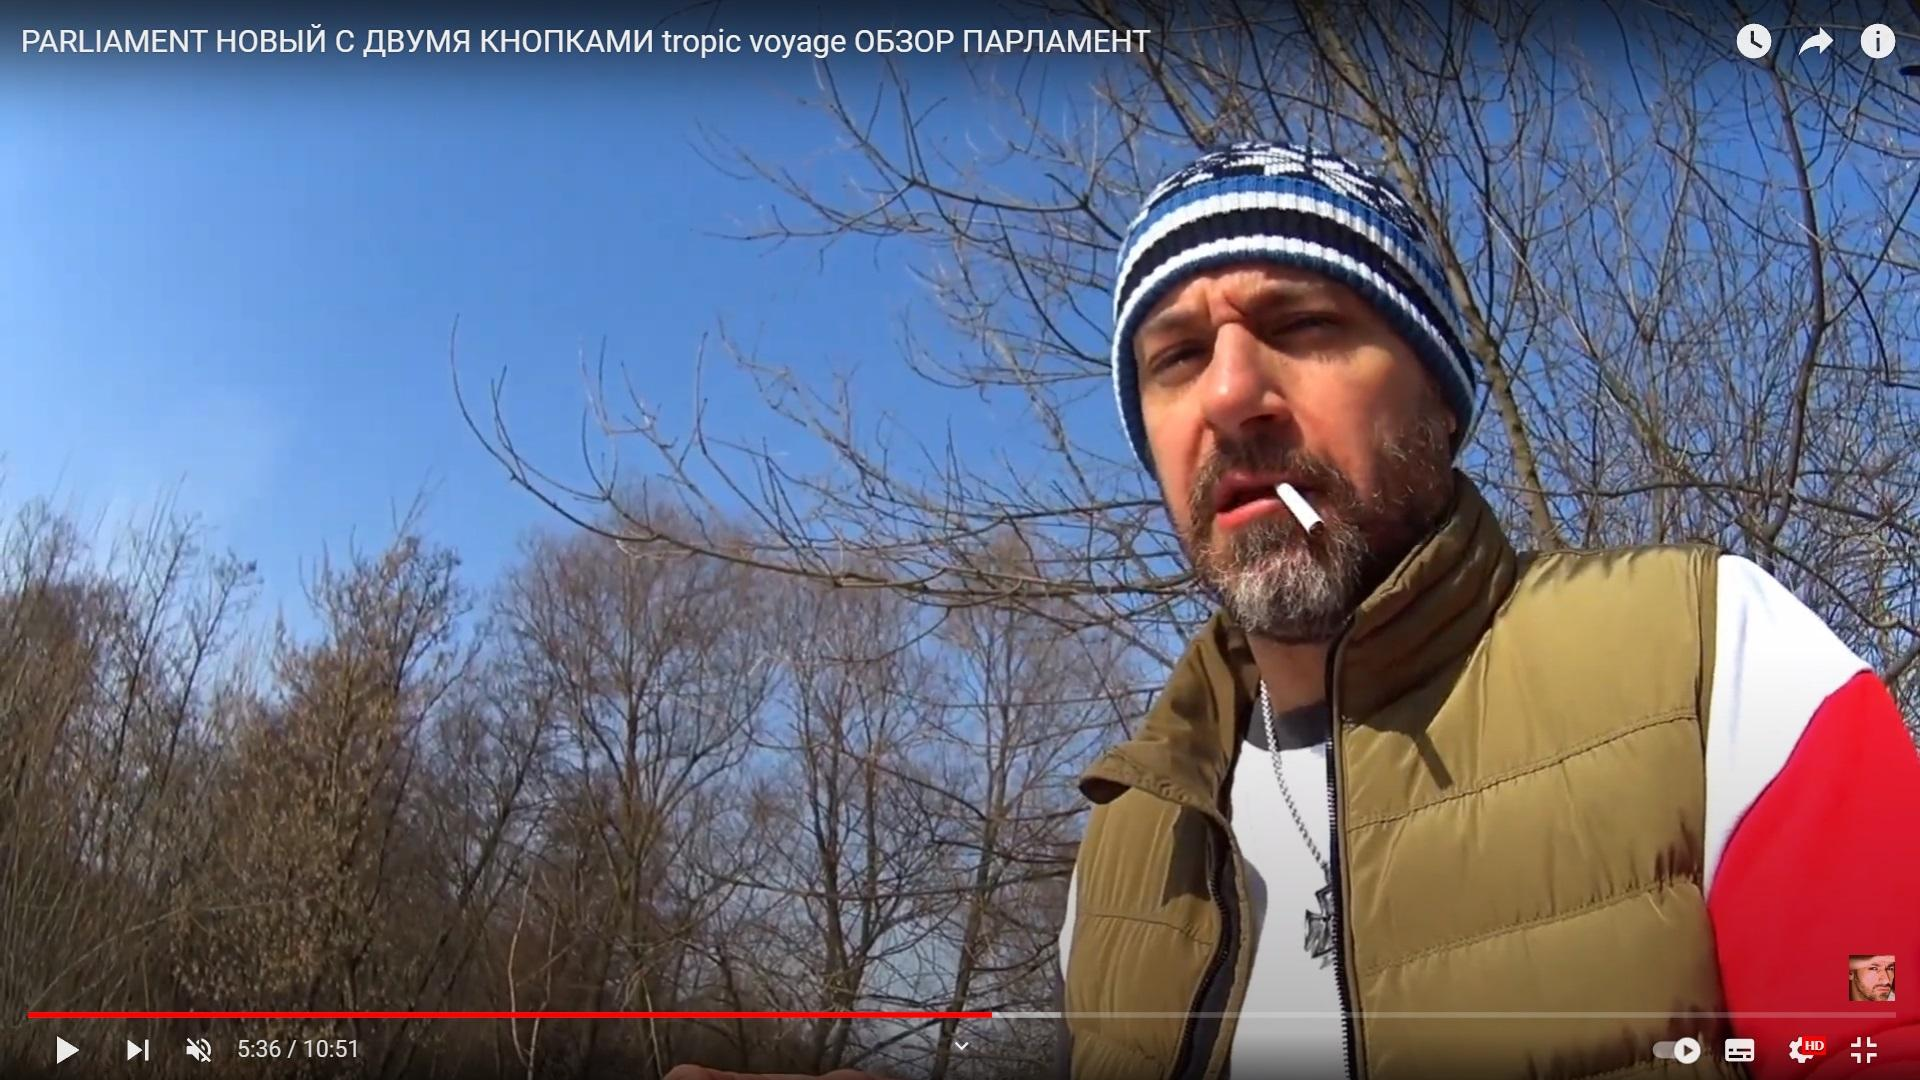cigarette: (1273, 483, 1327, 539)
